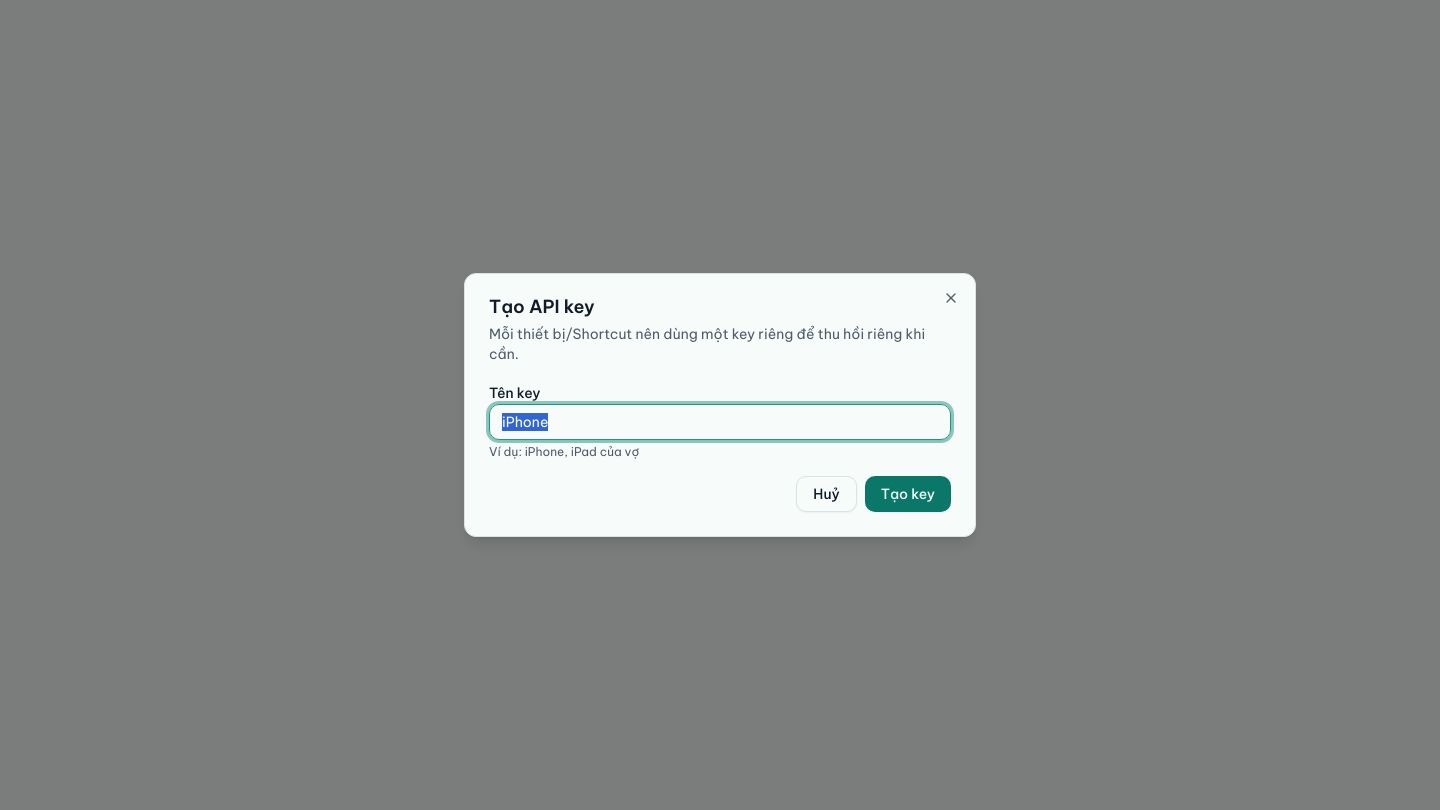
CreateApiKeyDialog — bước 1: đặt tên › service lỗi -> hiện message, KHÔNG hiện key
Step 1. Click the button "Tạo key" → (908, 494), box x1=865 y1=476 x2=951 y2=512
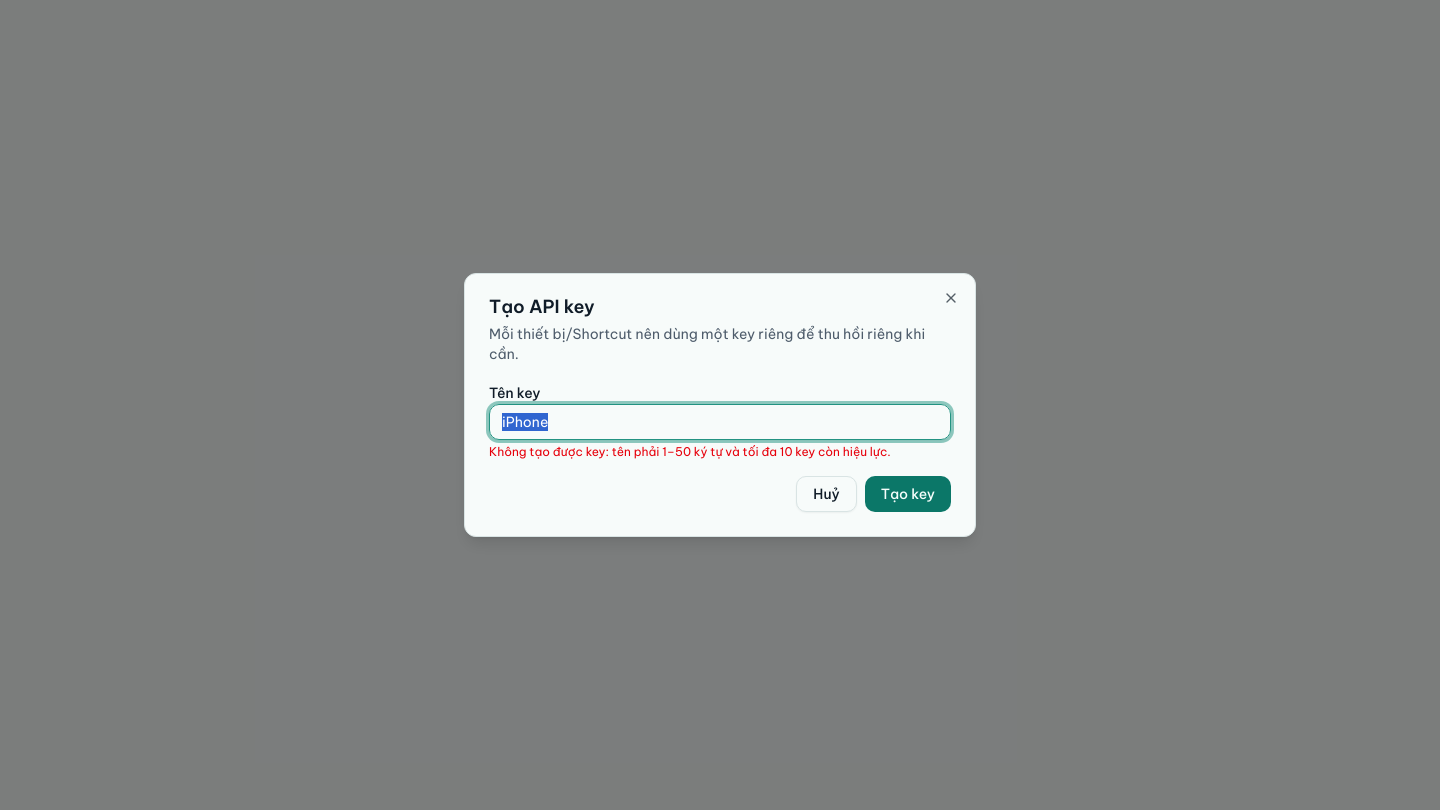
Check: the field labelled "Tên key" is shown, box x1=489 y1=404 x2=951 y2=440
Check: the message shows "tối đa 10 key còn hiệu lực", box x1=489 y1=444 x2=891 y2=459
